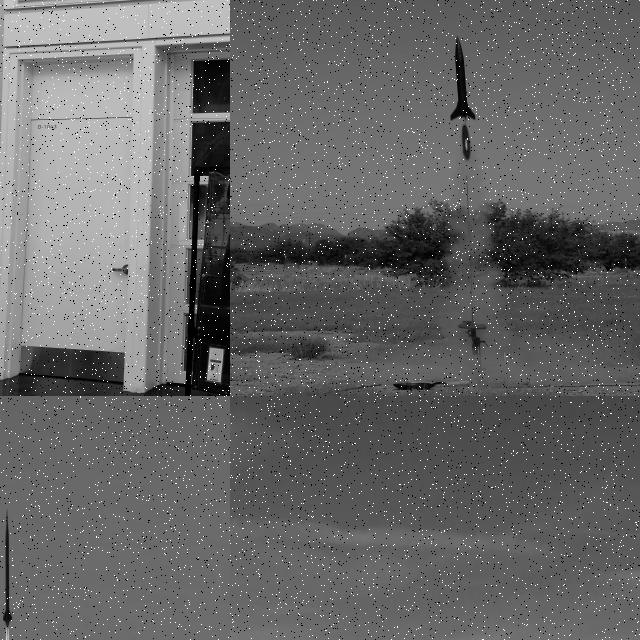Rocket: (449, 35, 480, 124), (2, 508, 12, 627)
